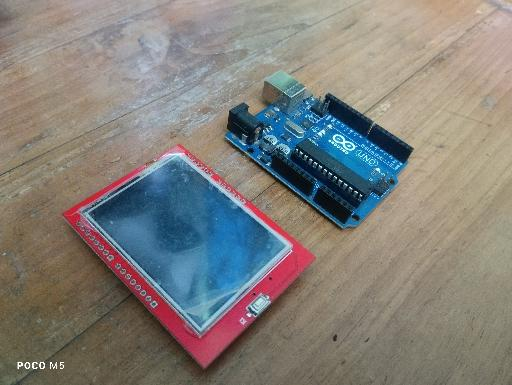Arduino: (223, 69, 415, 230)
Display: (62, 143, 317, 371)
